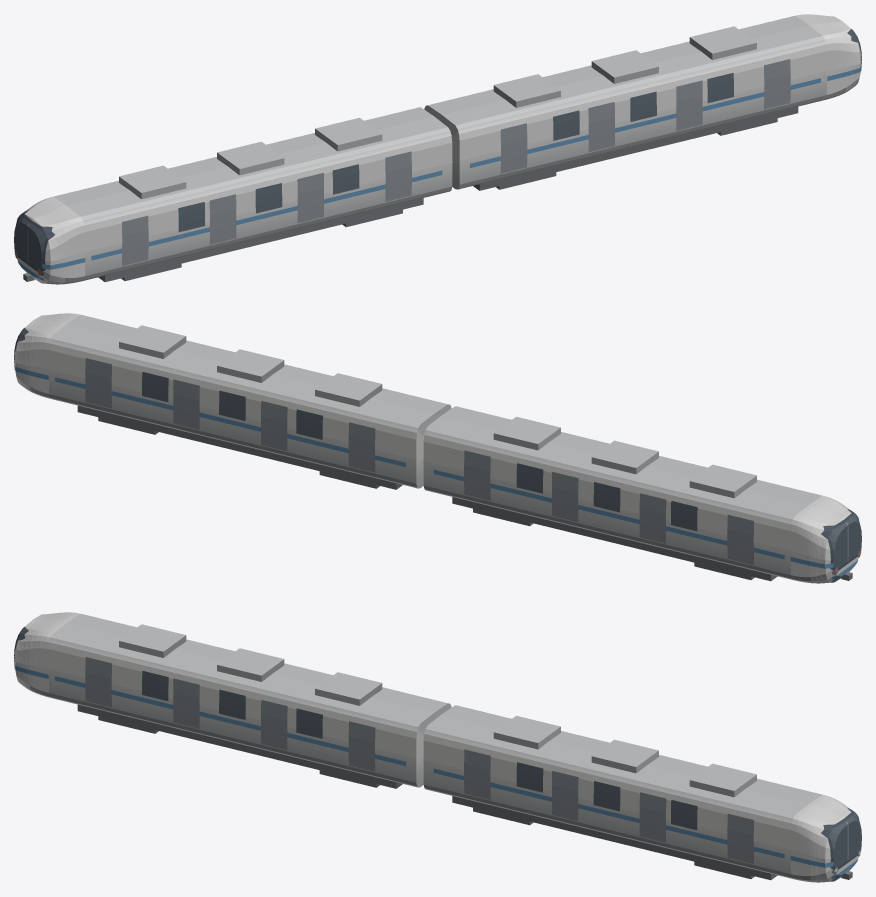
Rendered from 06_more_transit_3x2-04.glb.
3 views of the same model, one above another, from view 1: azimuth 30°, elevation 25°; view 2: azimuth 150°, elevation 25°; view 3: azimuth 330°, elevation 25° (orthographic).
Bounding box in the file's own units: 40.68 × 3.88 × 3.14.
